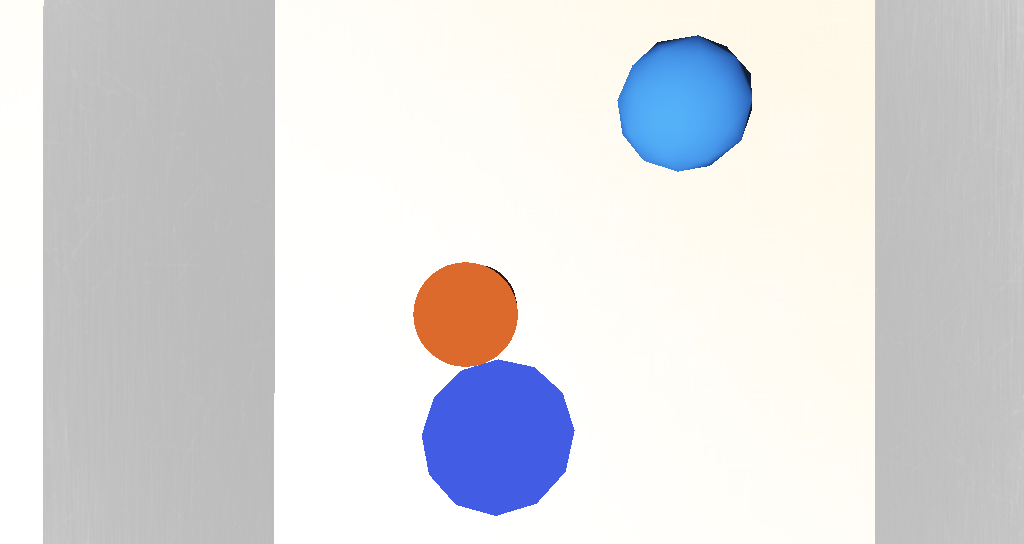cone: (424, 265, 478, 298)
cylinder: (435, 296, 509, 363)
sphere: (529, 193, 589, 236)
